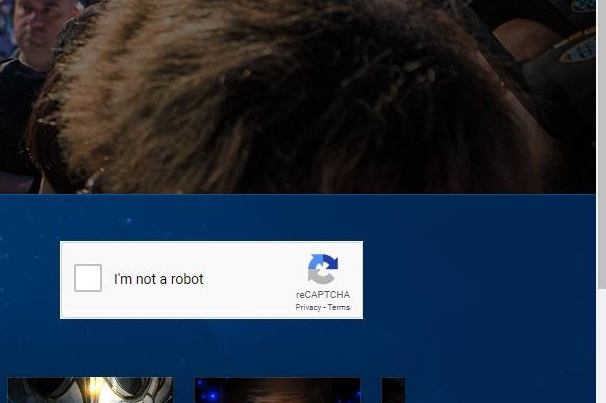captcha: (74, 263, 205, 292)
